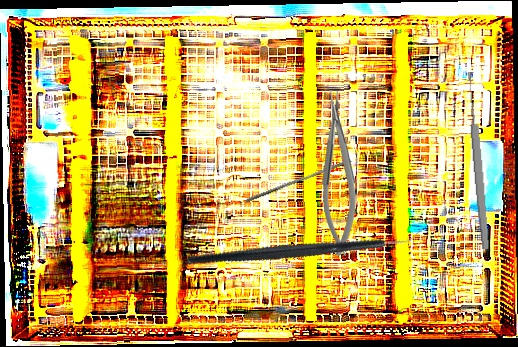Chopper: (185, 168, 425, 323)
Needle Holder: (322, 90, 356, 257)
Pusher: (243, 155, 353, 207)
Surgical Spoon: (464, 71, 492, 250)
